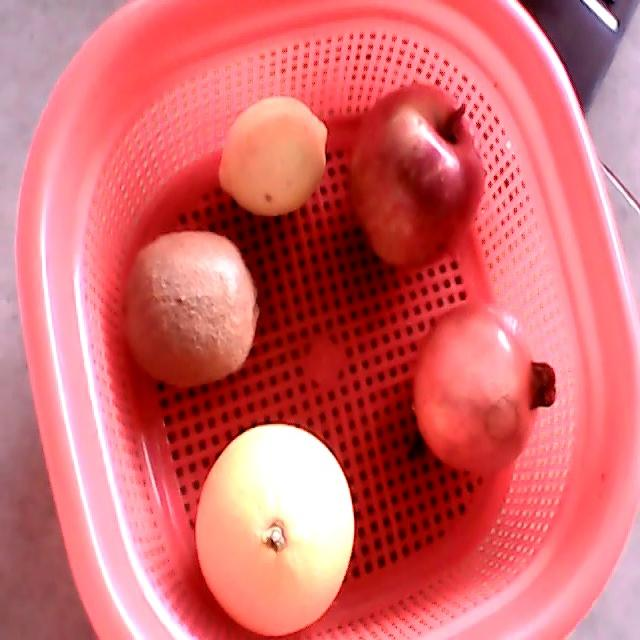apple: (349, 83, 486, 269)
kiwi: (121, 230, 260, 388)
lemon: (218, 96, 329, 216)
orange: (195, 424, 354, 638)
pomegranate: (412, 302, 558, 476)
